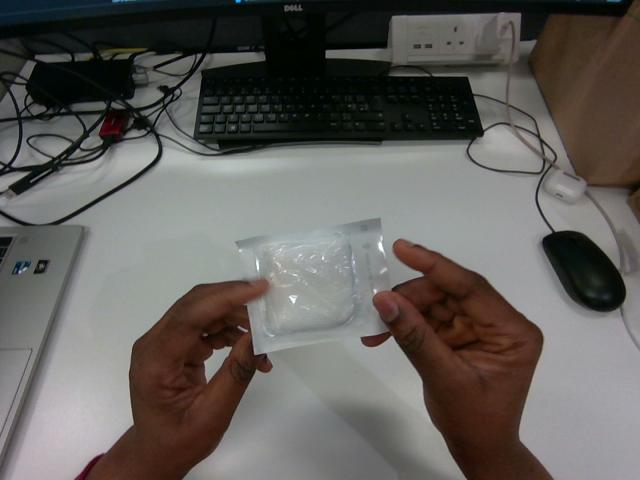gauze: (237, 219, 389, 353)
